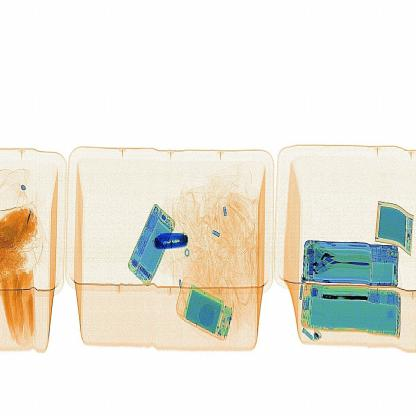scissors: (152, 228, 196, 251)
